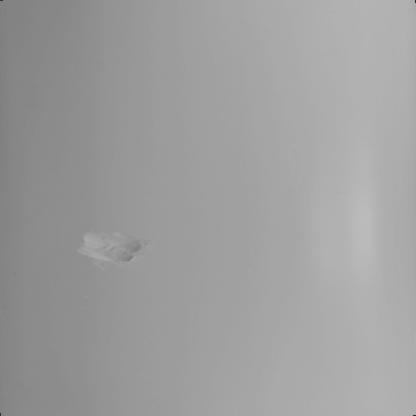sunshang: (77, 225, 145, 266)
